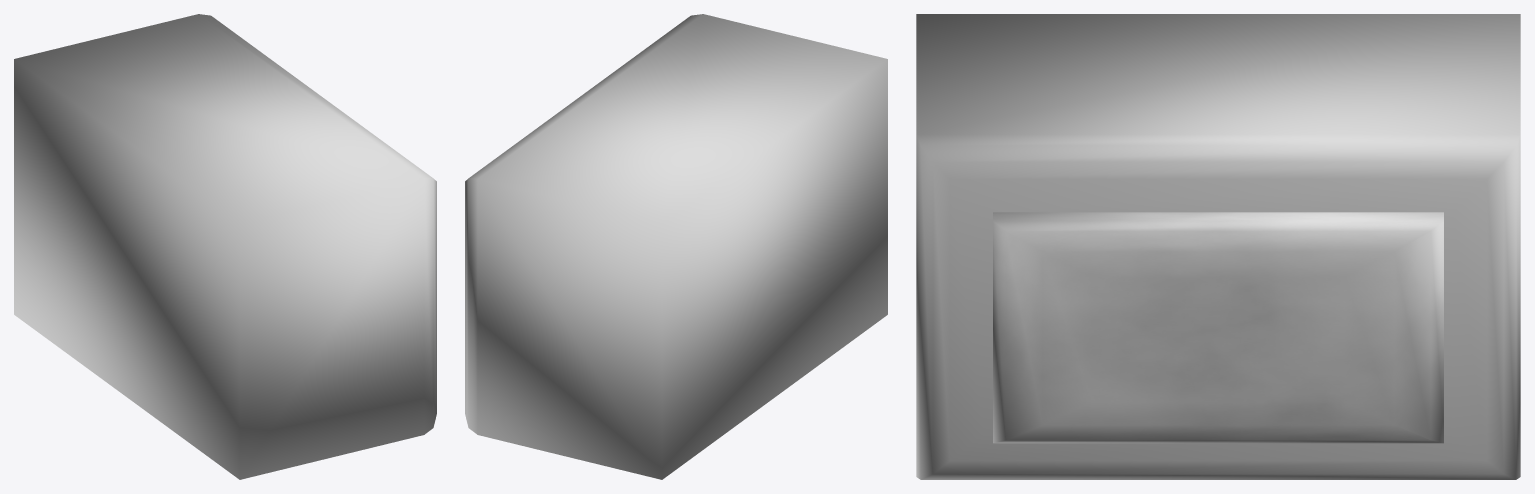
The model's file is LightSwitch2.fbx.
3 renders of one model, left to right at view 1: azimuth 30°, elevation 25°; view 2: azimuth 150°, elevation 25°; view 3: azimuth 270°, elevation 25°, orthographic. The views are drawn at different scales.
Parts seen in each view (by area): view 1: SwitchBack; view 2: SwitchBack; view 3: SwitchBack, Light.
Boxes of the visible parts, x1,y1,x2,y2 form: SwitchBack: (14,14,436,479); SwitchBack: (465,14,887,479); SwitchBack: (916,14,1520,479); Light: (993,212,1443,443).
Bounding box in the file's own units: 16.02 × 16.58 × 26.51.
